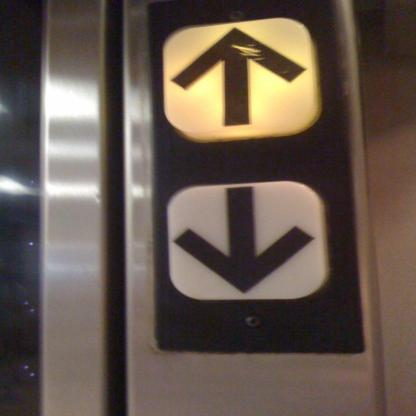down: (162, 180, 330, 300)
up: (157, 18, 322, 143)
